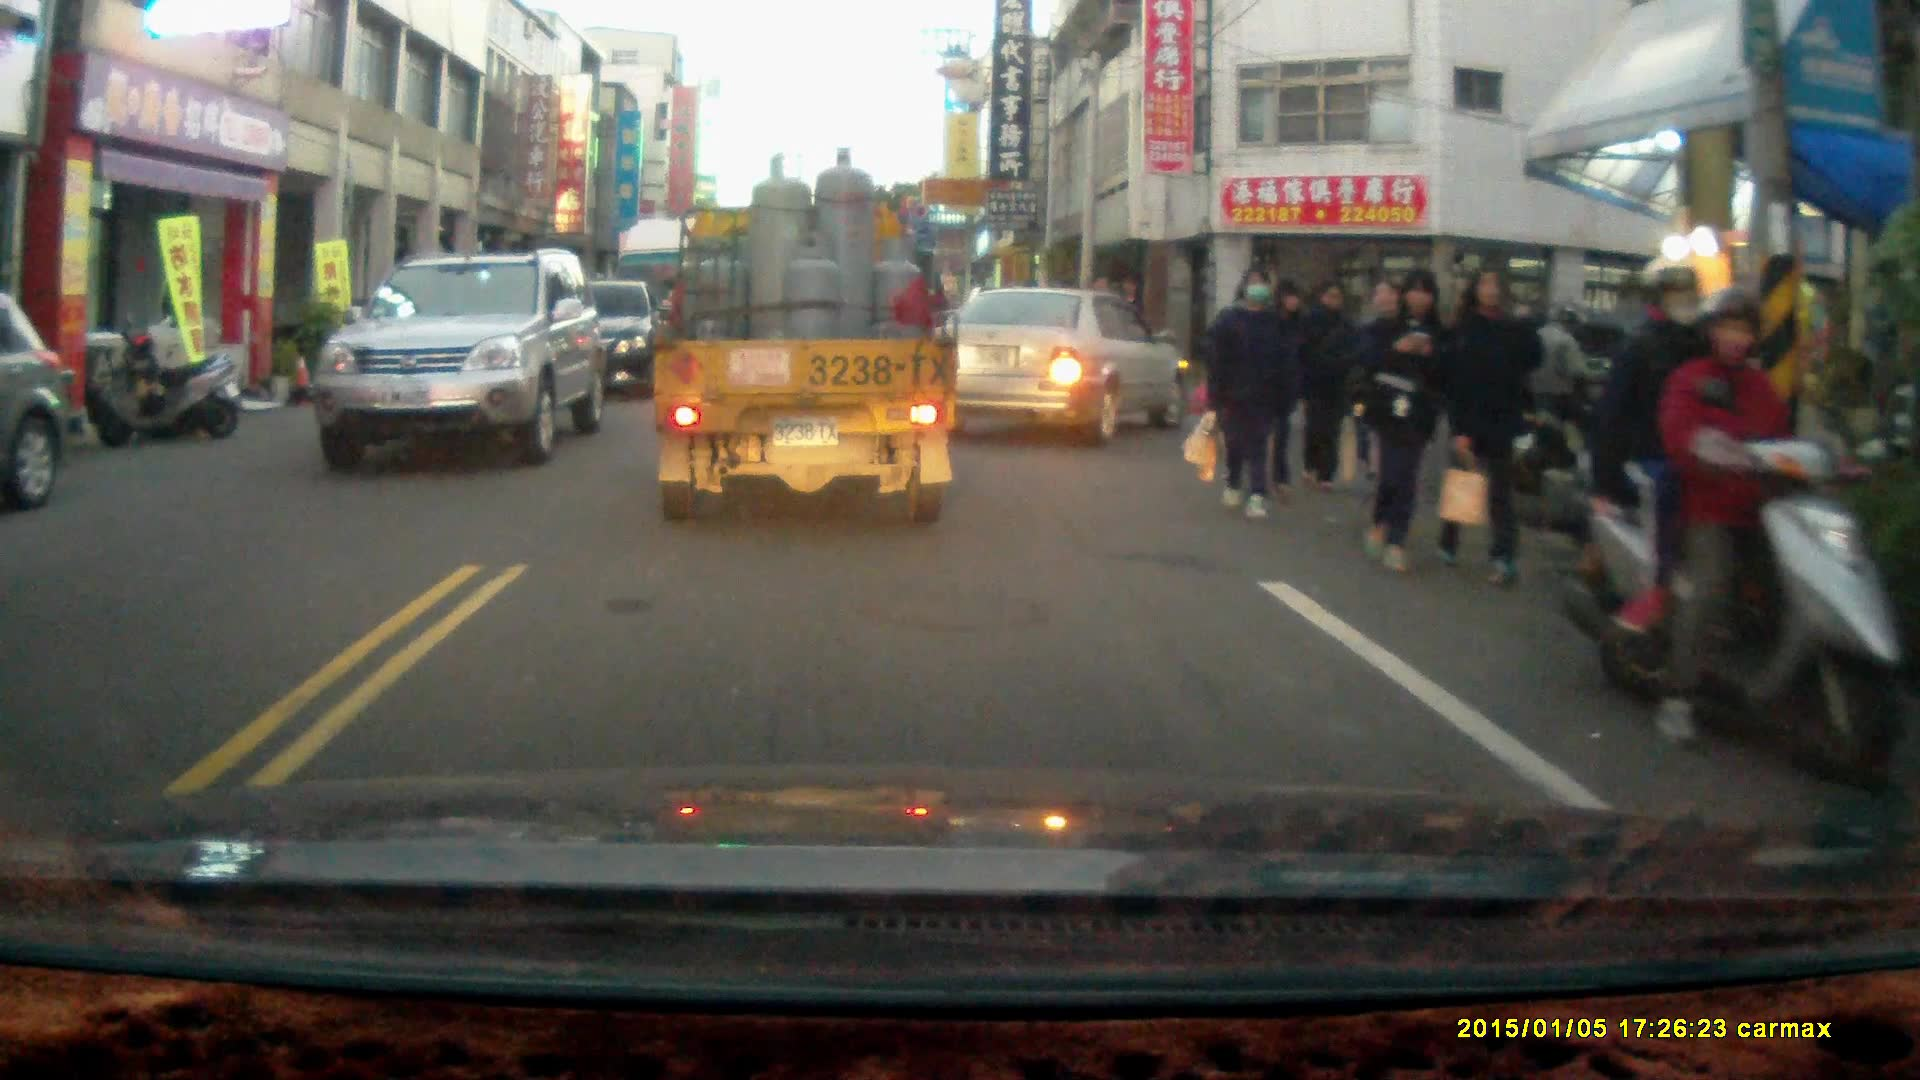pedestrian: (1440, 259, 1548, 579), (1357, 268, 1449, 582), (1206, 268, 1284, 522), (1291, 275, 1363, 491), (1256, 280, 1313, 487)
rider: (1562, 247, 1898, 801), (1510, 305, 1621, 500)
vehicle: (650, 144, 965, 525), (314, 248, 611, 476), (937, 288, 1186, 442), (512, 278, 679, 401), (1, 290, 73, 513)
